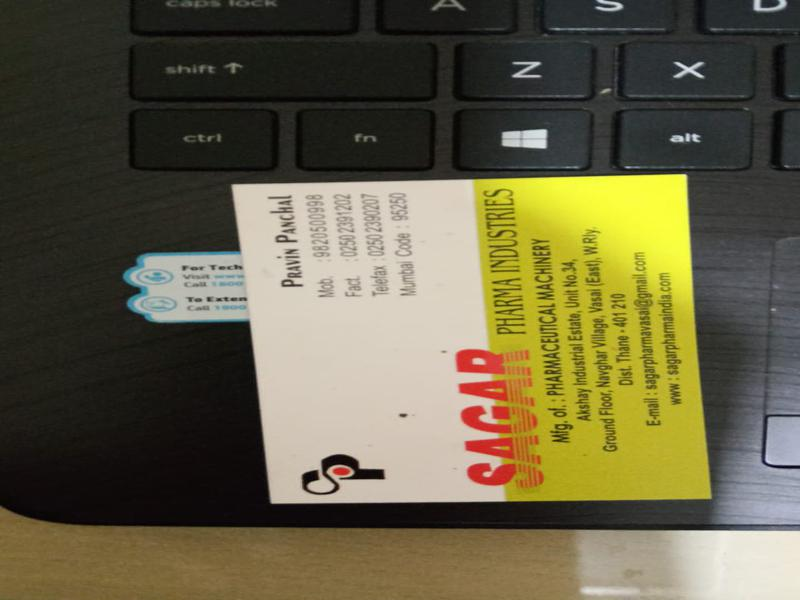card: (235, 175, 702, 508)
